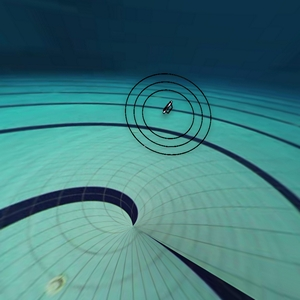circle: (113, 62, 225, 172)
submarine: (157, 97, 180, 119)
